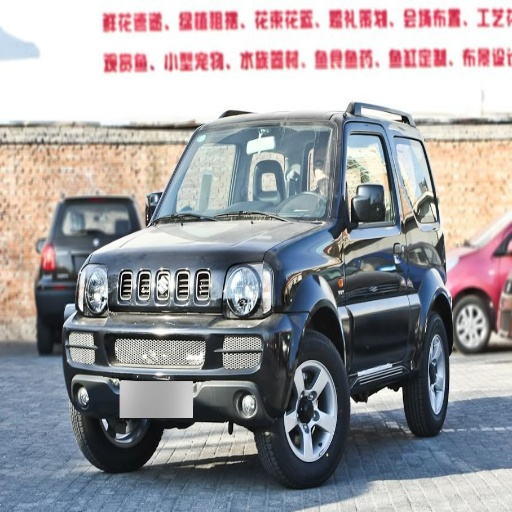front_bumper: (64, 256, 304, 422)
front_glass: (156, 126, 334, 222)
front_left_door: (343, 122, 406, 369)
